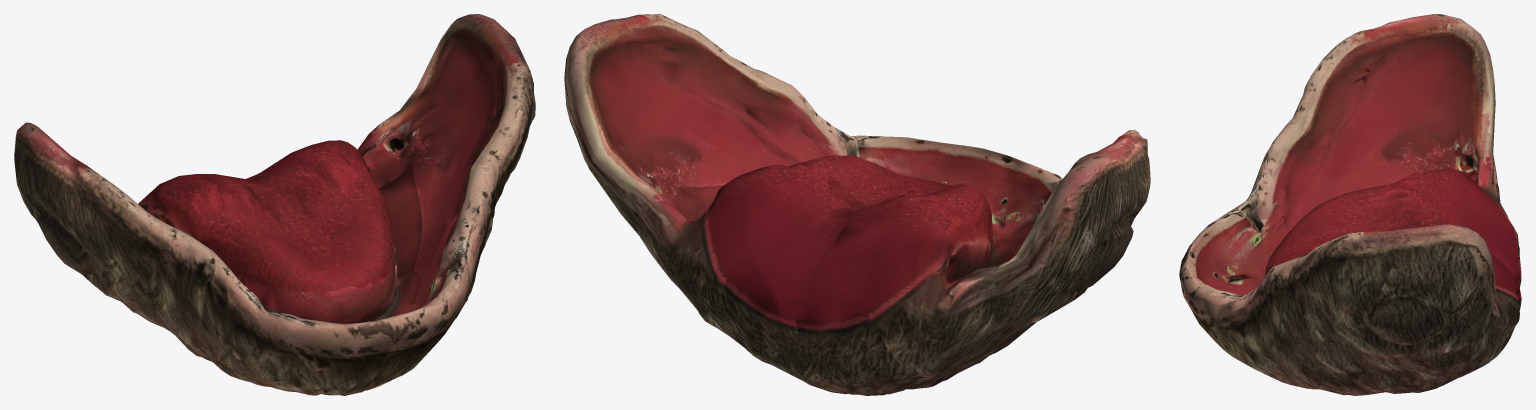
The model's file is Meshy_AI_Red_U_Shaped_Jaw_Pros_0716192908_texture.fbx.
The picture shows the model from 3 angles, left to right: view 1: azimuth 30°, elevation 25°; view 2: azimuth 150°, elevation 25°; view 3: azimuth 270°, elevation 25°; orthographic projection. The views are drawn at different scales.
Visible parts, largest first — view 1: mesh_node; view 2: mesh_node; view 3: mesh_node.
Part boxes in pixels (x1=…): mesh_node: x1=14, y1=14, x2=535, y2=395; mesh_node: x1=564, y1=14, x2=1150, y2=395; mesh_node: x1=1179, y1=14, x2=1521, y2=395.
Size of the model in its own units: 190 by 103 by 122.
Materials: 1 (1 with a texture image).
